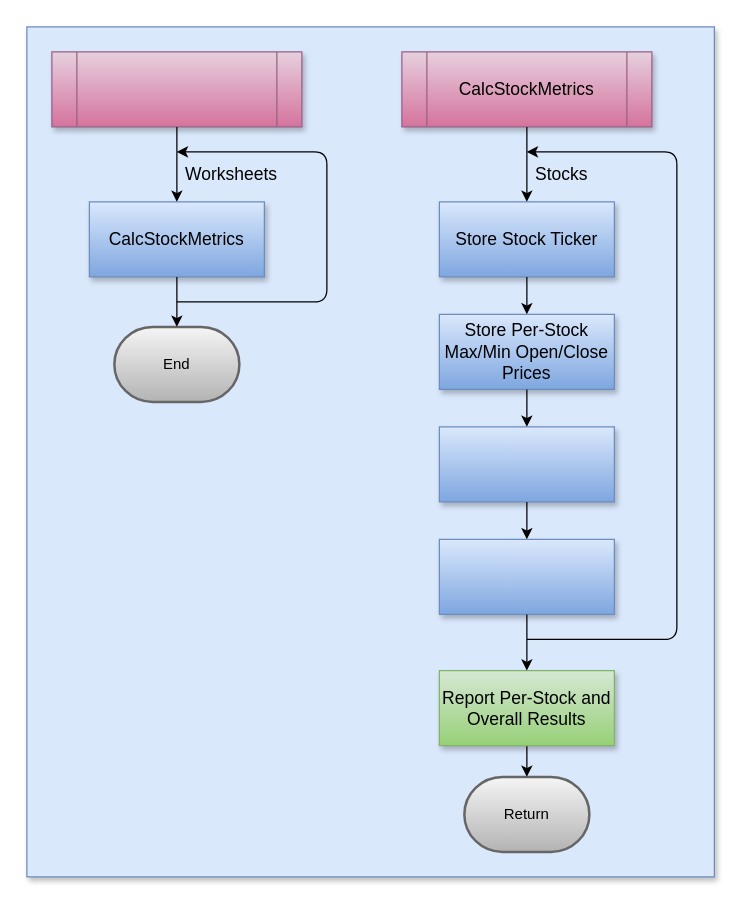
Image size: 744x908. Some labels were removed from this diagram. Here are the shapes that lost their labels. From the top down, the centre of each, then its label:
point 177,91: ProcessAllWorksheets
point 527,466: Update Per Stock Cumulative Volume
point 527,578: Update Overall Max/Min Prices, Volume
